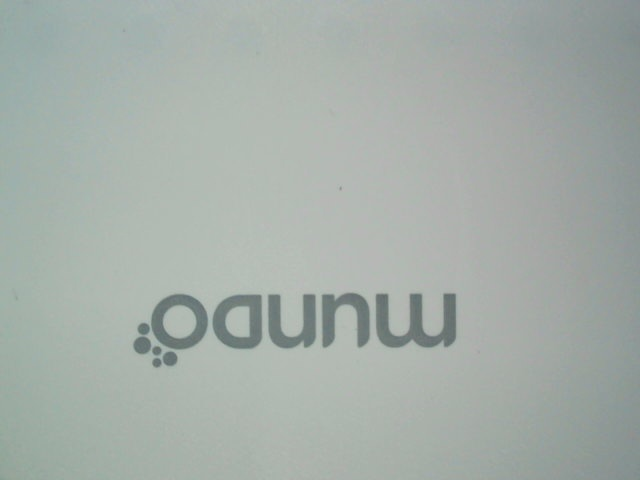BI_MUNDO: (123, 272, 463, 369)
